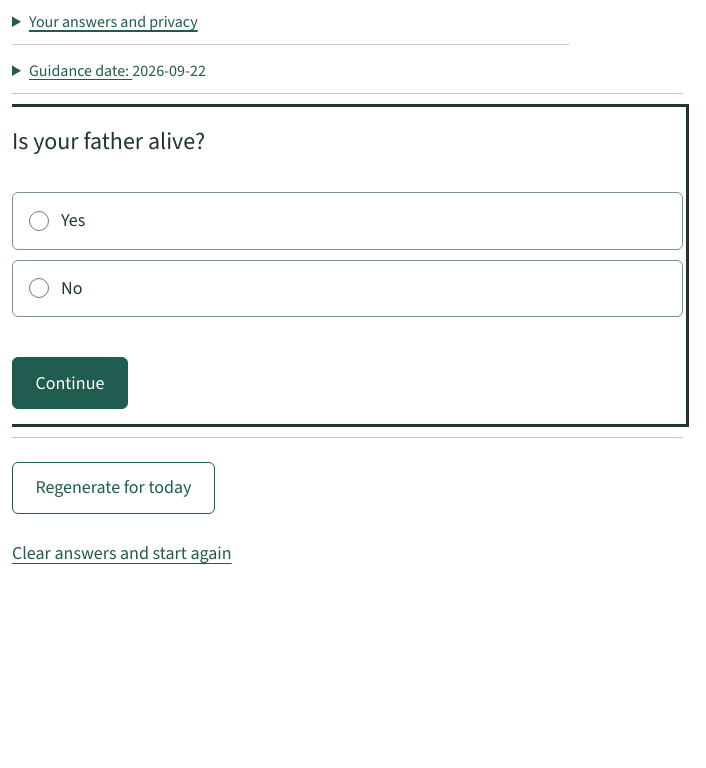
Test: hydration, native fields and semantic progression › handles fully answered recurring Questions without an automatic loop or trapped form
Click the radio button labelled "No": (39, 288) [29,278,49,298]
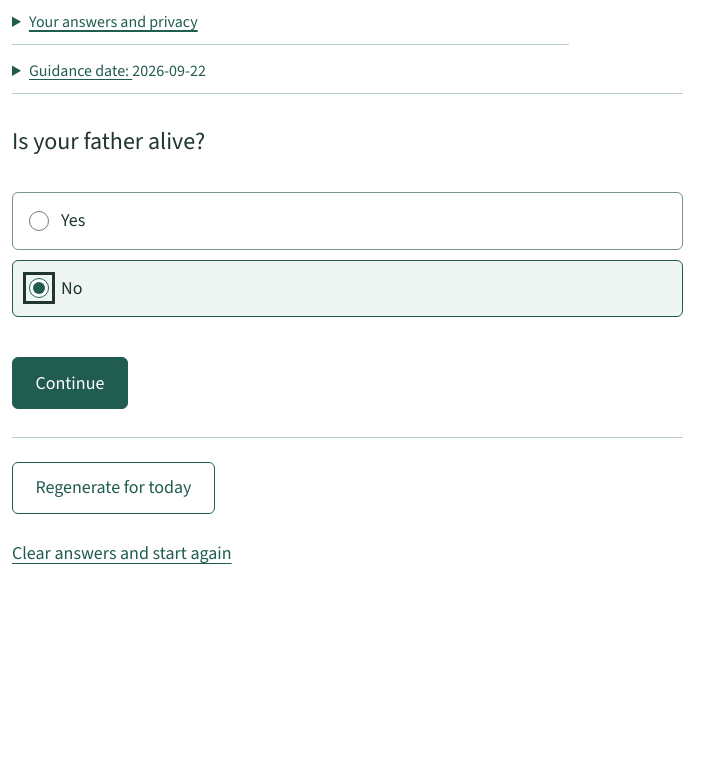
Click the button "Continue": (70, 383) [12,357,128,409]
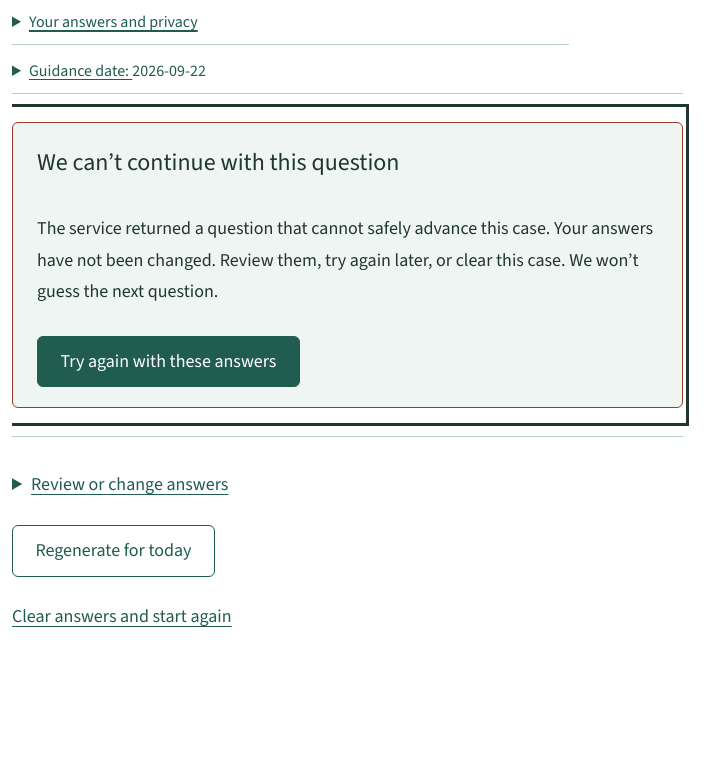
Expected: the button "Try again with these answers" is enabled, [37,336,300,388]
Now the heading "We can’t continue with this question" is shown, box [37,146,400,178]
Click the heading "Review or change answers": (130, 484) [31,472,228,496]
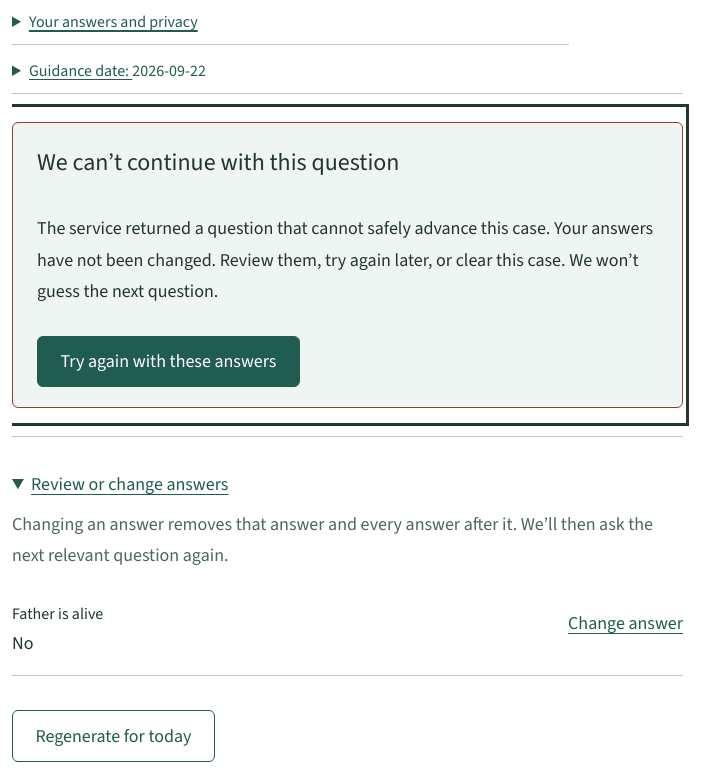
Now the button with aria-label "Change answer: Father is alive" is enabled, box [568,600,683,648]
